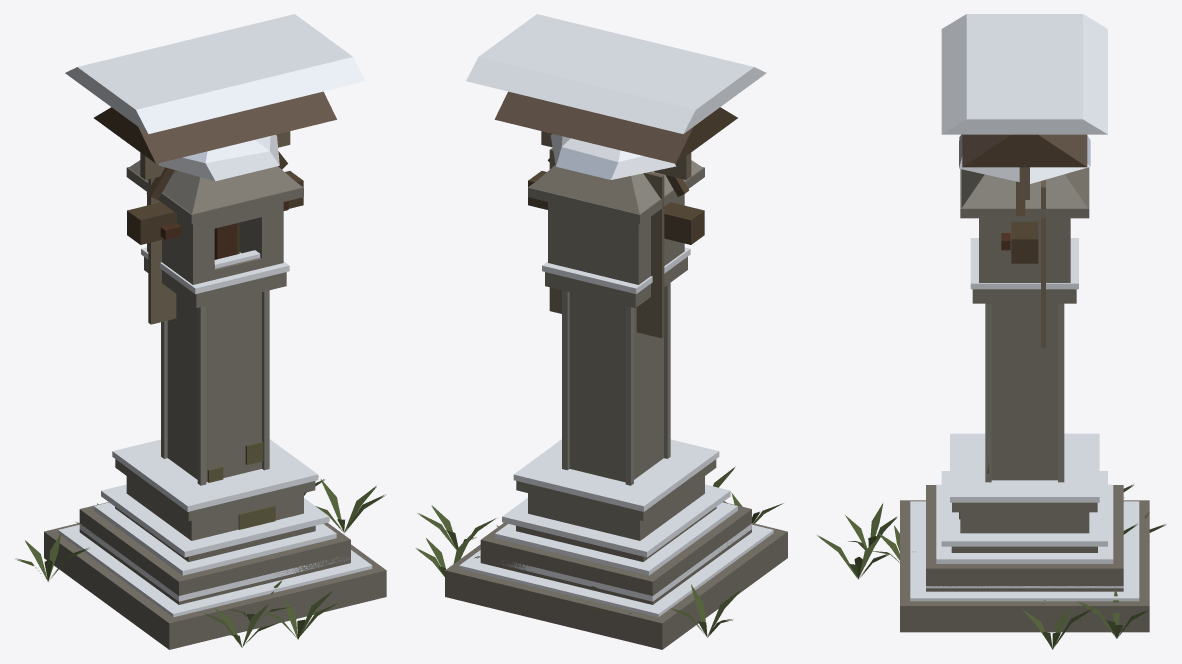
File: fuellung_bildstock.glb
3 renders of one model, left to right at view 1: azimuth 30°, elevation 25°; view 2: azimuth 150°, elevation 25°; view 3: azimuth 270°, elevation 25°, orthographic.
Parts seen in each view (by area): view 1: Bildstock, WegkreuzHolz_Winter, Bildstock_Winter, WegkreuzHolz; view 2: Bildstock, WegkreuzHolz_Winter, Bildstock_Winter, WegkreuzHolz; view 3: Bildstock, WegkreuzHolz_Winter, Bildstock_Winter, WegkreuzHolz.
Part boxes in pixels (x1,y1,x2,y2): Bildstock: [15, 160, 386, 649]; WegkreuzHolz_Winter: [65, 14, 365, 601]; Bildstock_Winter: [58, 134, 372, 617]; WegkreuzHolz: [75, 91, 336, 620]; Bildstock: [415, 160, 787, 649]; WegkreuzHolz_Winter: [466, 14, 766, 601]; Bildstock_Winter: [459, 134, 773, 617]; WegkreuzHolz: [494, 91, 737, 613]; Bildstock: [817, 167, 1149, 649]; WegkreuzHolz_Winter: [926, 14, 1123, 588]; Bildstock_Winter: [910, 134, 1139, 601]; WegkreuzHolz: [872, 134, 1165, 600].
Bounding box in the file's own units: 1.88 × 2.73 × 1.69.
